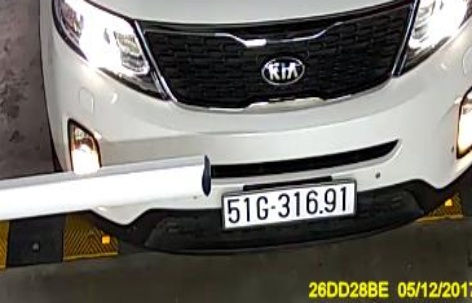plate: (222, 177, 358, 229)
